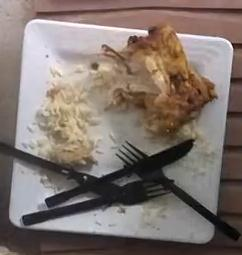chicken: (94, 26, 217, 133)
rice: (35, 82, 92, 161)
